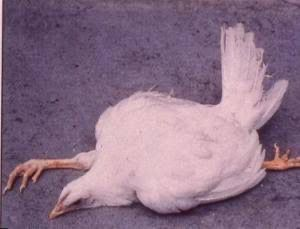Unhealthy: (10, 22, 294, 216)
